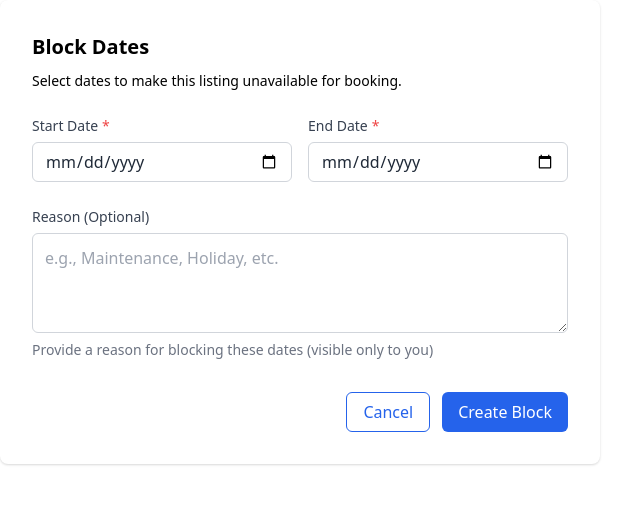
Test: BlockForm › validates that end date must be after or equal to start date
The width and height of the screenshot is (618, 531).
Type "2024-12-20" into the date field labelled "Start Date *".
click(162, 162); type("2024-12-20")  # box [32, 142, 292, 182]
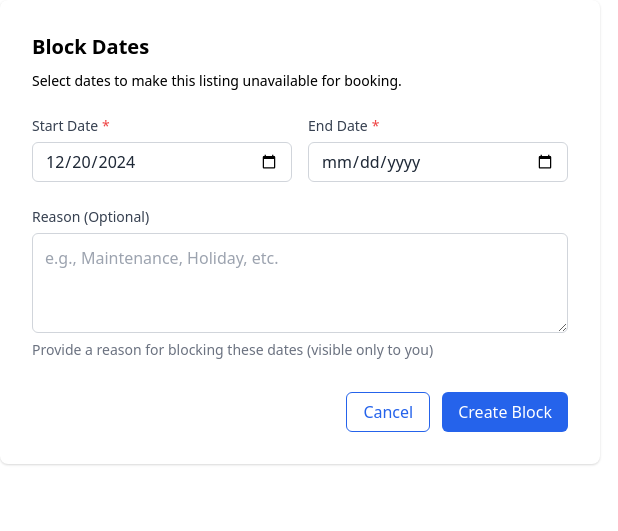
Type "2024-12-15" into the date field labelled "End Date *".
click(438, 162); type("2024-12-15")  # box [308, 142, 568, 182]
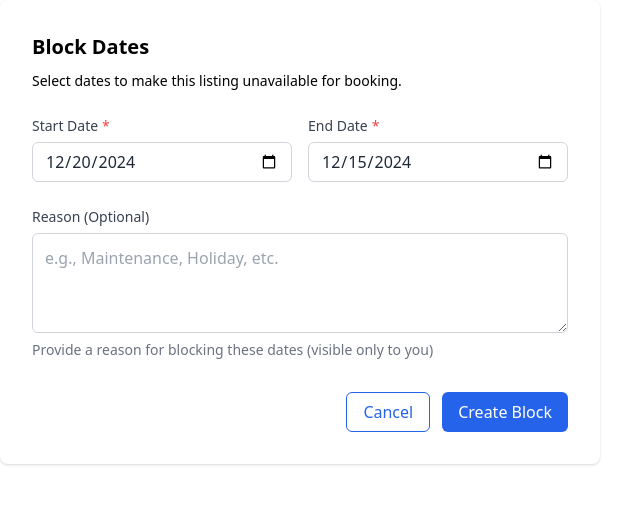
Submit the form named "create block", box [32, 115, 568, 432]
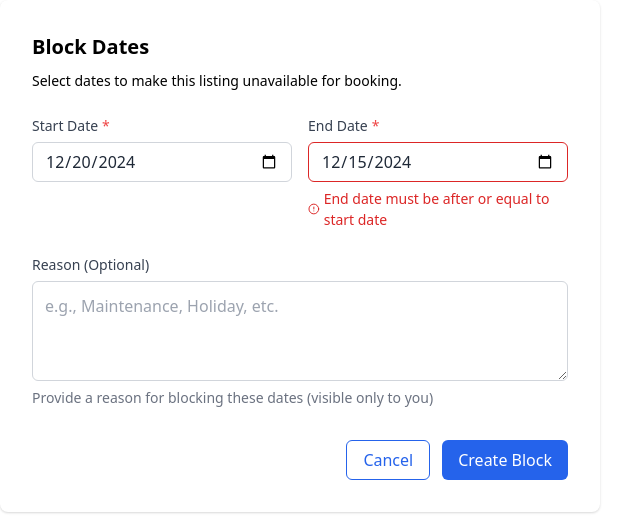
Expected: the text "End date must be after or equal to start date" is shown, [308, 188, 568, 230]
